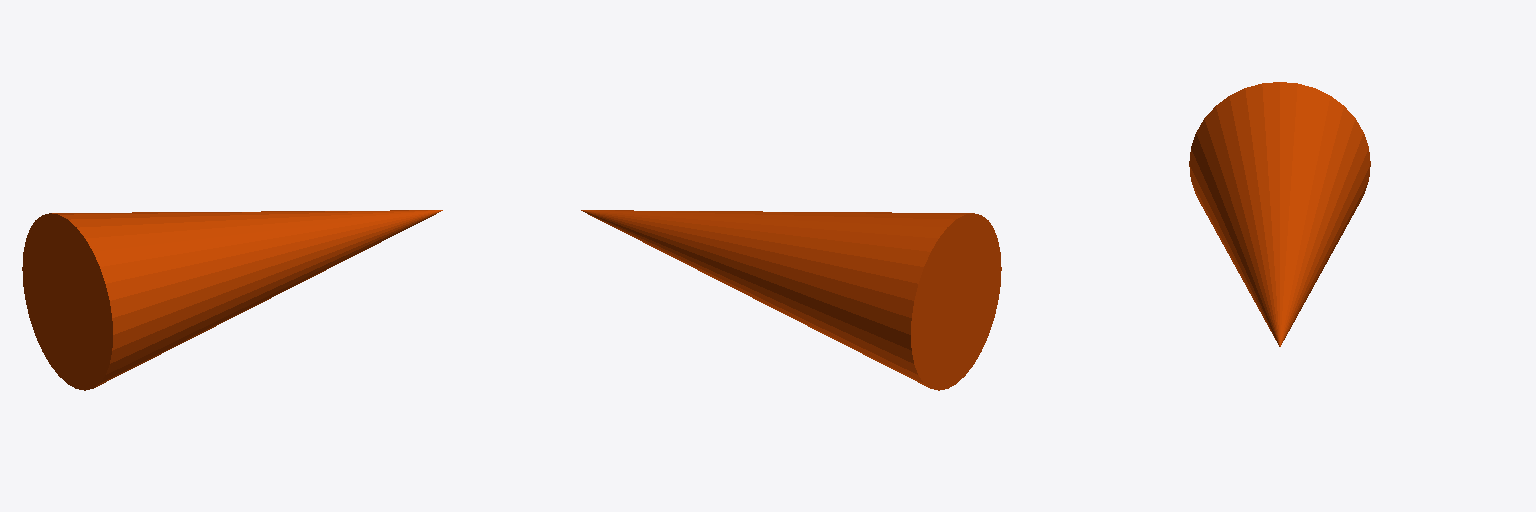
File: nose.obj
The picture shows the model from 3 angles: view 1: azimuth 30°, elevation 25°; view 2: azimuth 150°, elevation 25°; view 3: azimuth 270°, elevation 25°; orthographic projection.
Visible parts, largest first — view 1: Cone; view 2: Cone; view 3: Cone.
Boxes of the visible parts, box(x1,y1,x2,y2) form: Cone: box(22, 210, 442, 390); Cone: box(581, 210, 1001, 390); Cone: box(1189, 82, 1370, 346).
Size of the model in its own units: 1.11 by 0.4629 by 0.4629.